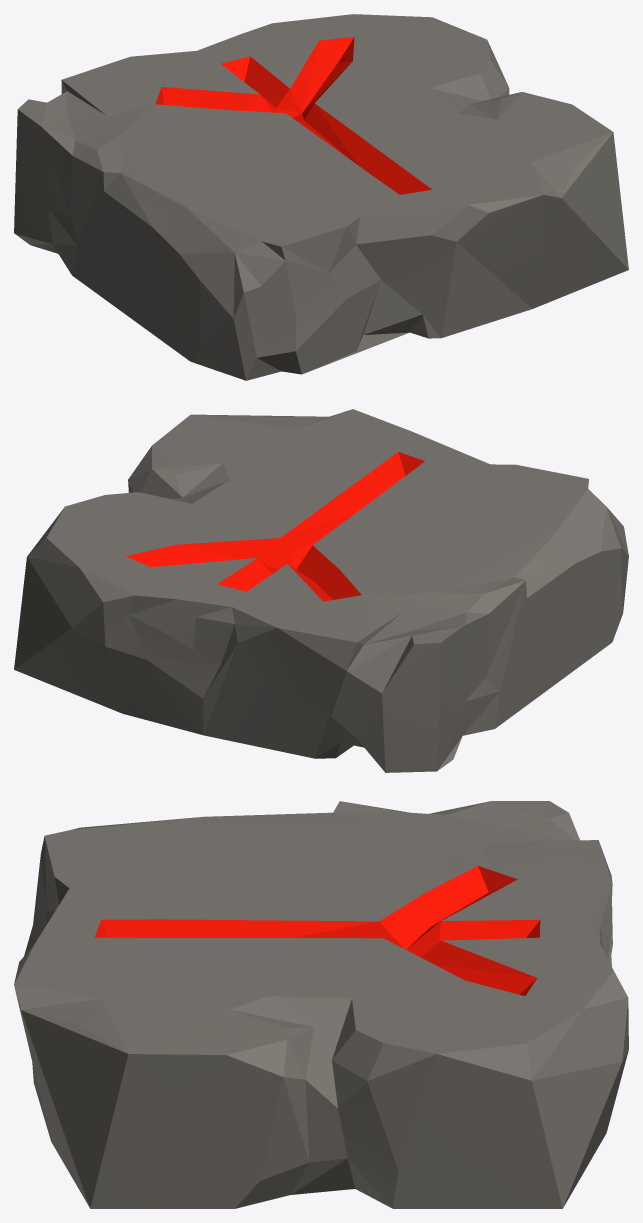
The model's file is SM_Env_Rune_Square_02.obj.
3 views of the same model, one above another, from view 1: azimuth 30°, elevation 25°; view 2: azimuth 150°, elevation 25°; view 3: azimuth 270°, elevation 25° (orthographic). The views are drawn at different scales.
Parts seen in each view (by area): view 1: SM_Env_Rune_Square_02; view 2: SM_Env_Rune_Square_02; view 3: SM_Env_Rune_Square_02.
Boxes of the visible parts, left/top/right/bottom form: SM_Env_Rune_Square_02: left=14, top=14, right=628, bottom=380; SM_Env_Rune_Square_02: left=14, top=409, right=628, bottom=772; SM_Env_Rune_Square_02: left=14, top=801, right=628, bottom=1208.
Bounding box in the file's own units: 0.5624 × 0.1605 × 0.5776.
